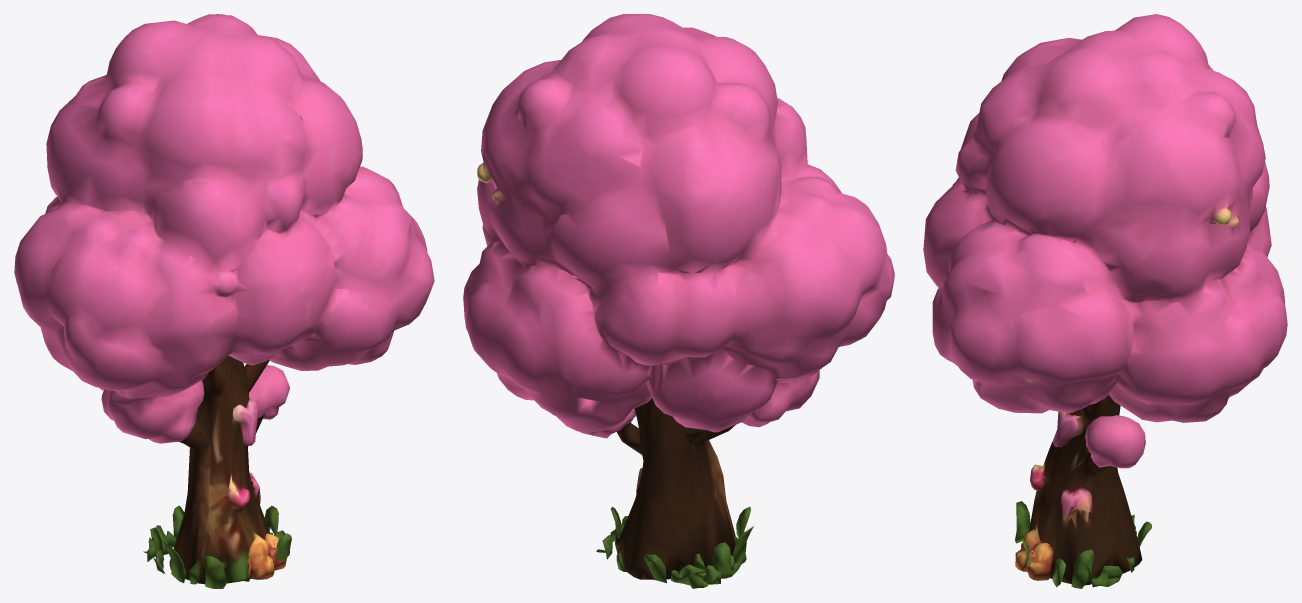
The model's file is CF_CottonTree.fbx.
3 renders of one model, left to right at view 1: azimuth 30°, elevation 25°; view 2: azimuth 150°, elevation 25°; view 3: azimuth 270°, elevation 25°, orthographic. The views are drawn at different scales.
Parts seen in each view (by area): view 1: CF_CottonTree; view 2: CF_CottonTree; view 3: CF_CottonTree.
Boxes of the visible parts, x1=… form: CF_CottonTree: x1=14, y1=14, x2=434, y2=588; CF_CottonTree: x1=463, y1=14, x2=894, y2=588; CF_CottonTree: x1=923, y1=14, x2=1287, y2=588.
Size of the model in its own units: 5.92 by 8 by 5.01.
